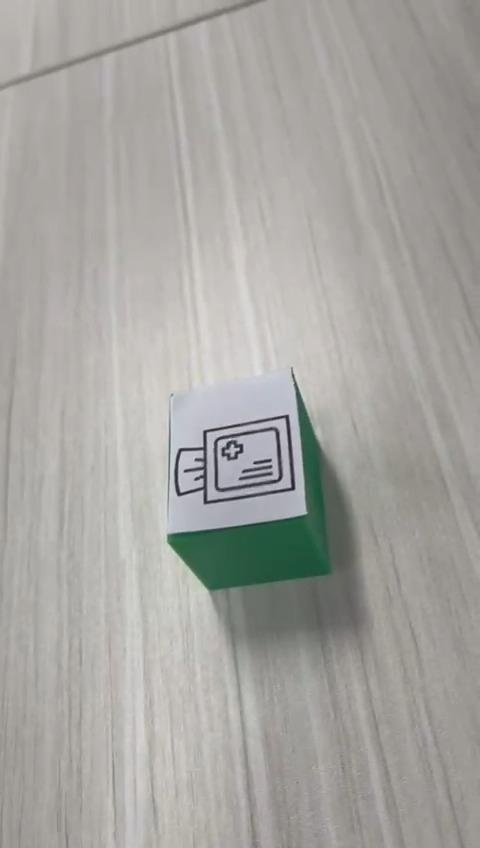Gauze: (165, 365, 332, 591)
